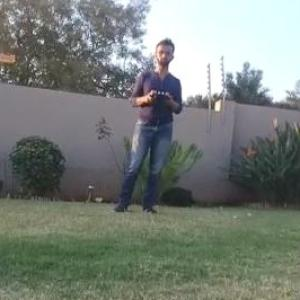follow: (110, 30, 188, 215)
